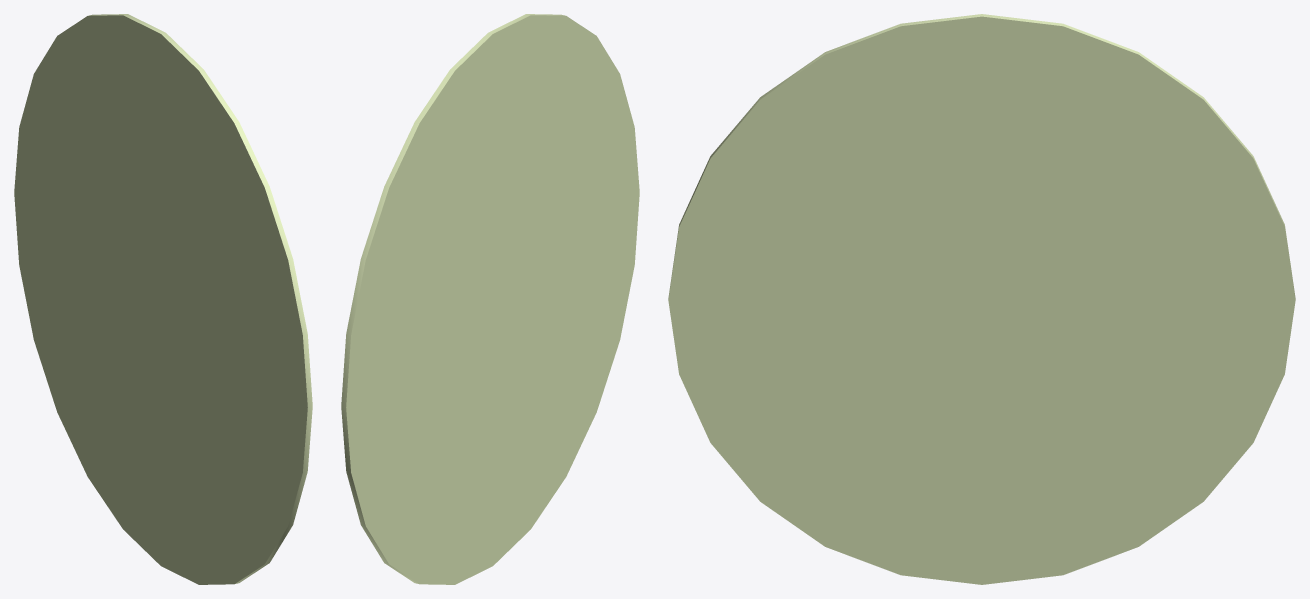
The model's file is signstreet005b.fbx.
3 renders of one model, left to right at view 1: azimuth 30°, elevation 25°; view 2: azimuth 150°, elevation 25°; view 3: azimuth 270°, elevation 25°, orthographic. The views are drawn at different scales.
Parts seen in each view (by area): view 1: streetsign001b_reference; view 2: streetsign001b_reference; view 3: streetsign001b_reference.
Part boxes in pixels (box(x1,y1,x2,y2)): streetsign001b_reference: box(14, 14, 312, 584); streetsign001b_reference: box(341, 14, 639, 584); streetsign001b_reference: box(668, 14, 1295, 584).
Size of the model in its own units: 23.04 by 2371 by 2371.
